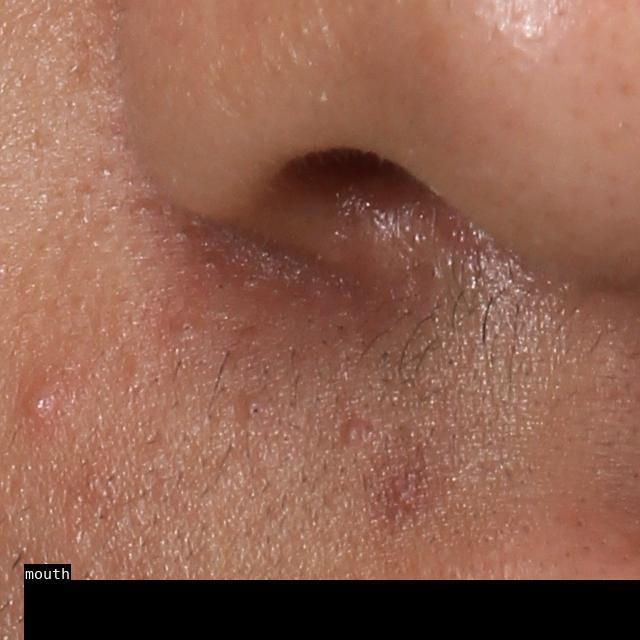comedo: (244, 398, 264, 421), (178, 319, 198, 339)
papule: (343, 415, 364, 449)
